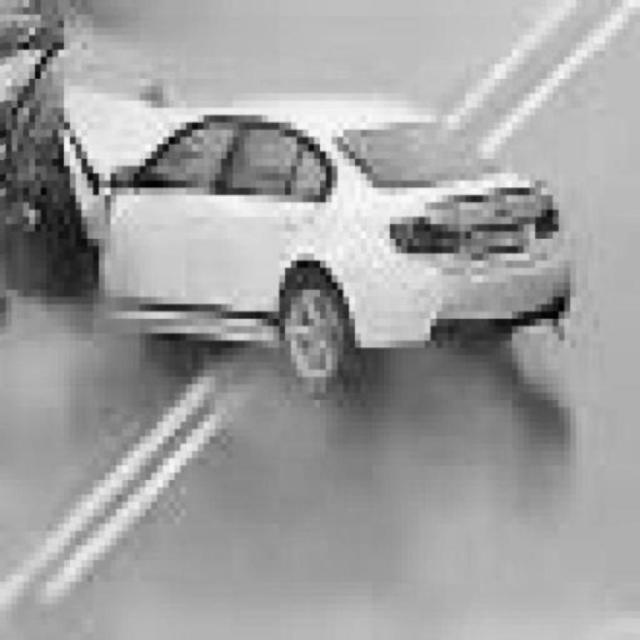accident: (4, 17, 588, 387)
